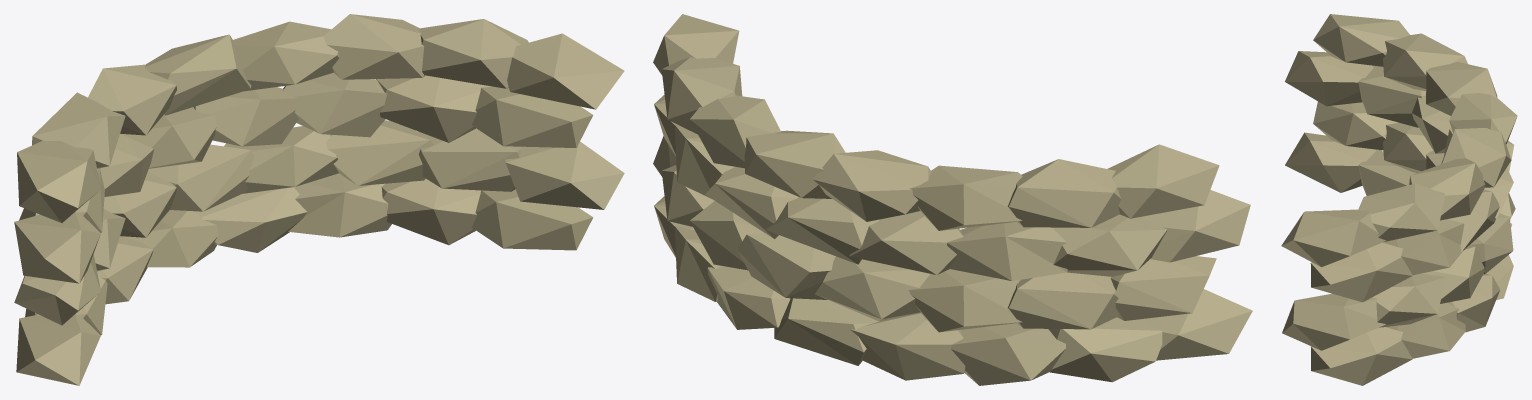
File: sandbags_low.glb
3 views of the same model, side by side, from view 1: azimuth 30°, elevation 25°; view 2: azimuth 150°, elevation 25°; view 3: azimuth 270°, elevation 25° (orthographic). The views are drawn at different scales.
Parts seen in each view (by area): view 1: sandbags.001; view 2: sandbags.001; view 3: sandbags.001.
Boxes of the visible parts, x1,y1,x2,y2 form: sandbags.001: (14, 14, 624, 385); sandbags.001: (653, 14, 1252, 385); sandbags.001: (1281, 14, 1517, 385).
Bounding box in the file's own units: 3.34 × 1.13 × 1.44.
